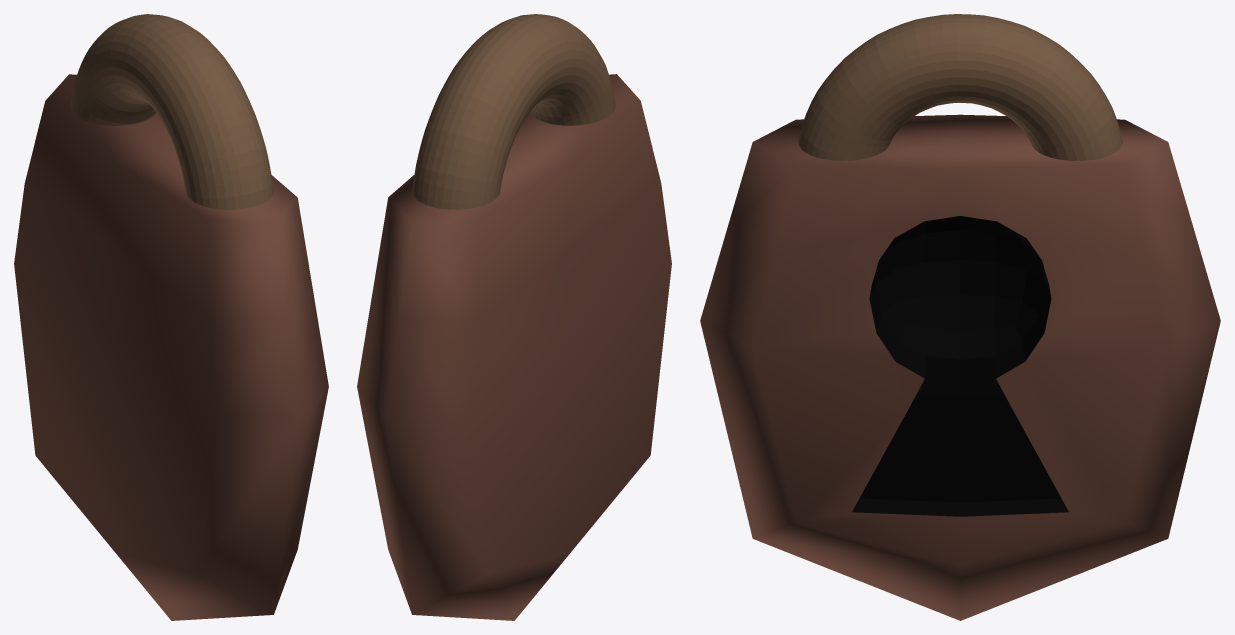
The model's file is lock.fbx.
3 renders of one model, left to right at view 1: azimuth 30°, elevation 25°; view 2: azimuth 150°, elevation 25°; view 3: azimuth 270°, elevation 25°, orthographic.
Visible parts, largest first — view 1: Lock, Cylinder; view 2: Lock, Cylinder; view 3: Lock, Hole, Cylinder.
Boxes of the visible parts, x1,y1,x2,y2 form: Lock: (14,74,328,620); Cylinder: (70,14,273,209); Lock: (357,74,671,620); Cylinder: (412,14,615,209); Lock: (700,114,1220,620); Hole: (852,216,1068,516); Cylinder: (798,14,1122,160).
Bounding box in the file's own units: 16.55 × 74.84 × 58.56.
